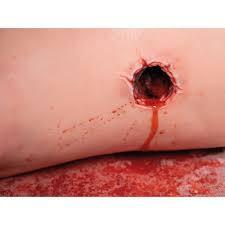Fire: (0, 59, 225, 197)
